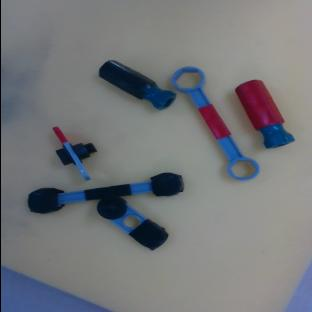part_1_bad: (92, 189, 170, 255)
part_1_good: (38, 125, 103, 181)
part_2_bad: (95, 55, 177, 114)
part_2_good: (231, 74, 295, 155)
part_3_bad: (26, 169, 183, 215)
part_3_good: (168, 59, 264, 188)
